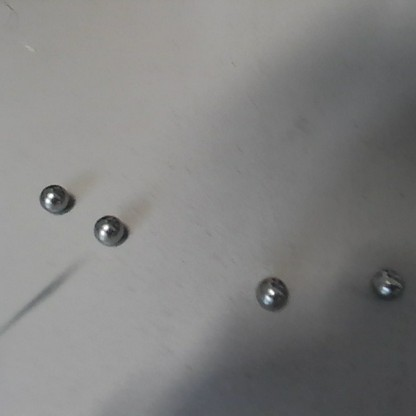ironball: (369, 268, 403, 300), (256, 277, 288, 309), (92, 214, 123, 246), (39, 183, 68, 212)
